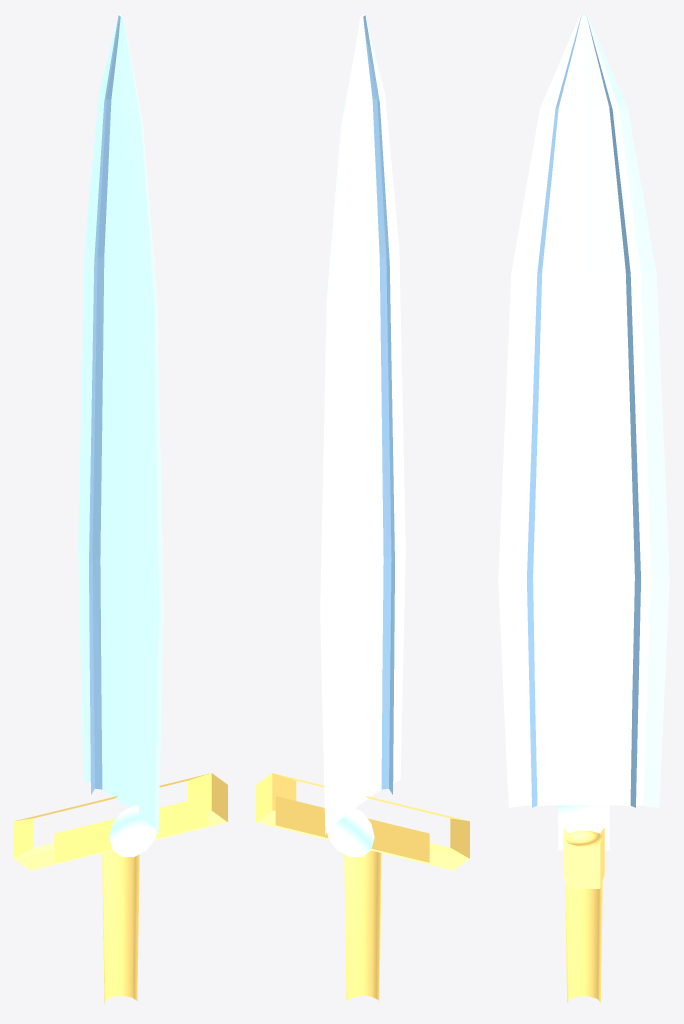
The model's file is titan_sword.glb.
3 views of the same model, side by side, from view 1: azimuth 30°, elevation 25°; view 2: azimuth 150°, elevation 25°; view 3: azimuth 270°, elevation 25° (orthographic).
Parts seen in each view (by area): view 1: titan_sword; view 2: titan_sword; view 3: titan_sword.
Boxes of the visible parts, left/top/right/bottom form: titan_sword: left=14, top=14, right=227, bottom=1003; titan_sword: left=256, top=14, right=469, bottom=1003; titan_sword: left=498, top=14, right=669, bottom=1002.
Size of the model in its own units: 0.88 by 4.2 by 0.66.
